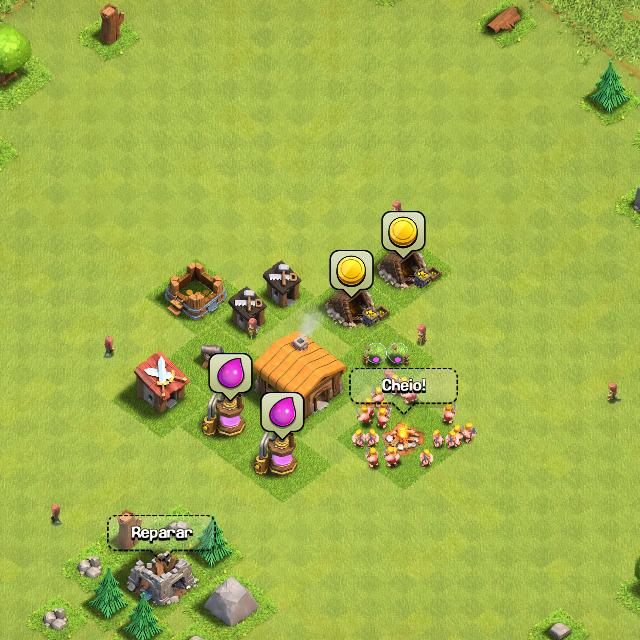Elixir: (208, 353, 254, 399), (260, 392, 304, 437)
coin: (380, 210, 426, 261), (330, 248, 374, 298)
